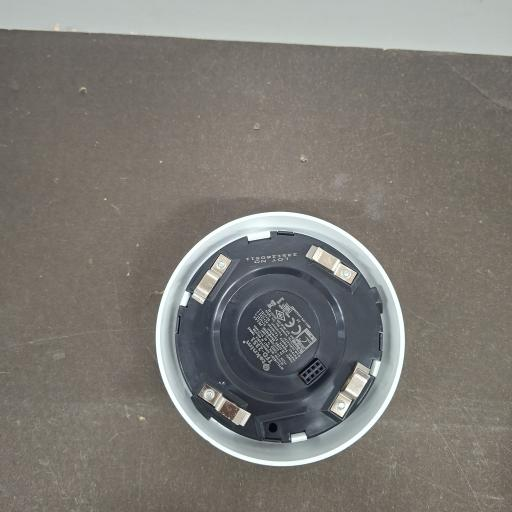yayli: (196, 381, 252, 429), (329, 362, 372, 420), (192, 252, 234, 305), (306, 244, 358, 286)
